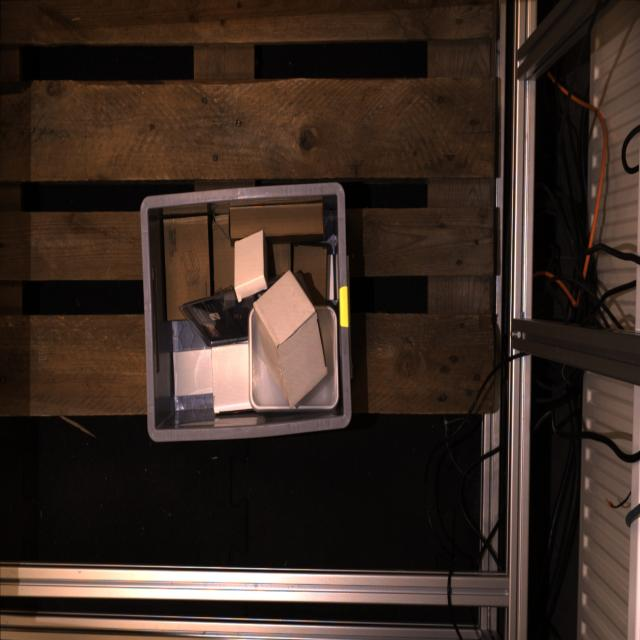CardboardBox: (253, 269, 329, 408), (163, 216, 211, 321), (230, 204, 325, 238), (212, 342, 251, 412), (234, 229, 267, 301), (172, 349, 213, 397), (293, 246, 328, 298), (213, 215, 234, 291), (267, 239, 290, 275), (327, 254, 334, 300)
ItemPackaging: (180, 287, 265, 344), (268, 276, 280, 289)
PlasticContainer: (248, 307, 291, 412), (296, 306, 338, 411)
